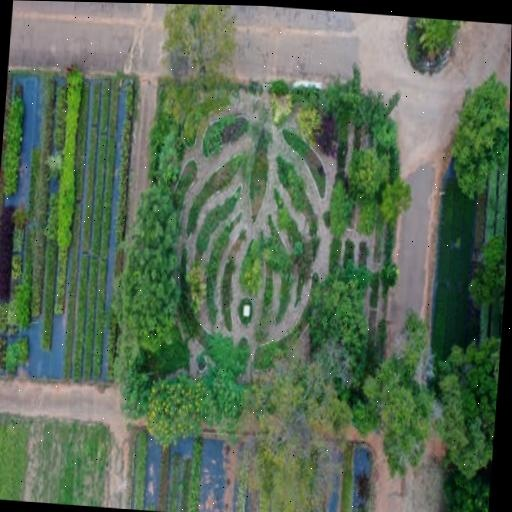tree-top: (117, 188, 187, 347), (429, 334, 501, 475), (362, 345, 432, 466), (449, 68, 510, 198), (311, 257, 374, 352), (145, 370, 202, 463), (155, 3, 235, 67), (466, 231, 507, 325), (352, 82, 402, 154), (400, 16, 467, 67), (201, 366, 246, 437), (373, 167, 417, 231), (115, 348, 152, 421), (319, 175, 358, 241), (439, 465, 491, 512), (349, 147, 388, 208)
